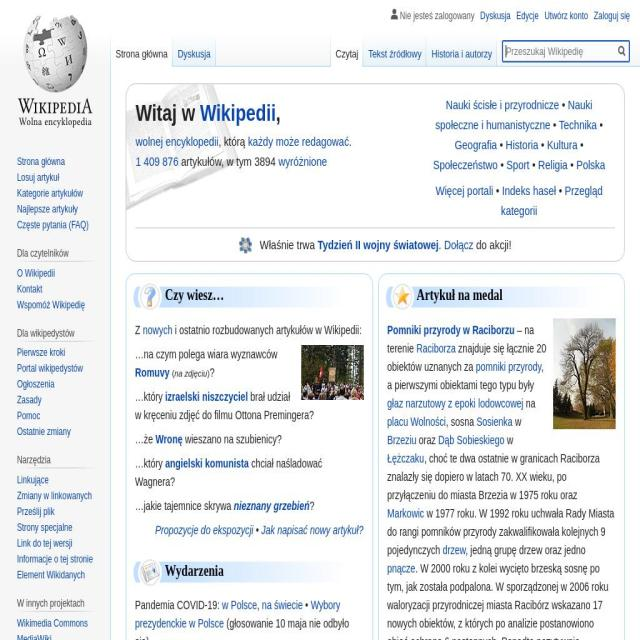button: (427, 33, 498, 67), (363, 33, 427, 67), (111, 33, 173, 67), (172, 33, 215, 67), (331, 33, 364, 67)
field: (502, 40, 630, 63), (614, 41, 630, 62)
heading: (0, 10, 124, 640), (413, 287, 502, 304), (17, 454, 99, 467), (162, 287, 224, 304), (162, 562, 224, 579), (17, 247, 99, 259), (17, 327, 99, 339), (17, 598, 99, 610), (138, 281, 163, 313), (138, 556, 163, 588), (390, 281, 414, 313)
image: (0, 0, 640, 67), (5, 0, 105, 133), (553, 318, 616, 430), (301, 344, 364, 400), (239, 238, 252, 254)
link: (135, 598, 341, 631), (435, 96, 593, 132), (500, 184, 602, 218), (200, 99, 276, 126), (317, 236, 438, 252), (387, 322, 514, 337), (387, 396, 523, 410), (446, 96, 560, 112), (262, 522, 364, 536), (248, 134, 348, 148), (155, 522, 254, 536), (165, 389, 249, 403), (165, 456, 249, 470), (233, 498, 309, 512), (432, 156, 498, 172), (438, 432, 505, 447), (17, 553, 94, 566), (17, 218, 89, 231), (476, 359, 542, 373), (16, 298, 86, 311), (16, 569, 86, 582), (17, 490, 92, 502), (17, 617, 89, 629), (386, 414, 446, 428), (435, 184, 493, 198), (17, 187, 84, 199), (17, 363, 84, 375), (502, 184, 557, 198), (165, 134, 219, 148), (17, 203, 79, 215), (278, 154, 328, 168), (454, 136, 497, 152), (17, 522, 73, 534), (17, 538, 73, 550), (17, 426, 71, 438), (558, 116, 598, 132), (16, 155, 66, 167), (136, 154, 178, 168), (17, 347, 66, 359), (262, 598, 303, 612), (416, 341, 456, 355), (544, 10, 588, 22), (476, 414, 513, 428), (387, 451, 424, 465), (387, 506, 424, 520), (17, 171, 60, 183), (506, 136, 538, 152), (547, 136, 578, 152), (17, 378, 55, 391), (222, 598, 257, 612), (538, 156, 568, 172), (576, 156, 606, 172), (444, 236, 474, 252), (16, 267, 56, 279), (135, 365, 169, 379), (17, 506, 55, 518), (143, 322, 173, 337), (593, 10, 630, 22), (387, 432, 416, 447), (386, 561, 416, 575), (17, 474, 49, 487), (155, 432, 183, 446), (506, 156, 530, 172), (136, 134, 163, 148), (480, 10, 511, 22), (442, 542, 467, 556), (17, 394, 42, 407), (17, 283, 43, 295), (17, 410, 41, 422), (17, 632, 52, 640), (516, 10, 538, 22)
text: (387, 561, 609, 640), (387, 506, 614, 556), (387, 451, 600, 502), (135, 456, 323, 488), (135, 389, 314, 422), (387, 359, 544, 392), (134, 616, 349, 640), (387, 341, 547, 373), (387, 323, 534, 355), (172, 322, 362, 337), (135, 347, 277, 361), (136, 99, 200, 126), (465, 542, 586, 556), (389, 5, 475, 22), (178, 154, 279, 168), (182, 432, 282, 446), (135, 498, 234, 512), (135, 598, 222, 612), (252, 236, 318, 252), (473, 236, 512, 252), (218, 134, 248, 148), (135, 389, 165, 403), (135, 456, 165, 470), (446, 414, 476, 428), (174, 367, 208, 378), (416, 432, 439, 447), (135, 432, 156, 446), (523, 396, 536, 410), (538, 136, 548, 152), (497, 156, 507, 172), (529, 156, 539, 172), (567, 156, 577, 172), (504, 432, 514, 447), (559, 96, 568, 112), (550, 116, 559, 132), (497, 136, 506, 152), (493, 184, 503, 198), (302, 598, 312, 612), (512, 414, 522, 428), (276, 99, 281, 126), (556, 184, 565, 198), (253, 522, 262, 536), (135, 322, 143, 337), (596, 116, 603, 132), (577, 136, 584, 152), (438, 236, 444, 252), (209, 365, 215, 379), (309, 498, 315, 512), (257, 598, 262, 612), (348, 134, 352, 148), (172, 367, 175, 378), (207, 367, 209, 378)
